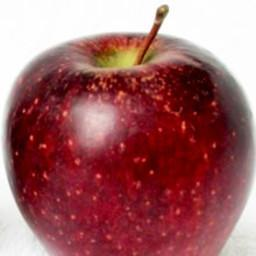apple: (3, 22, 250, 253)
